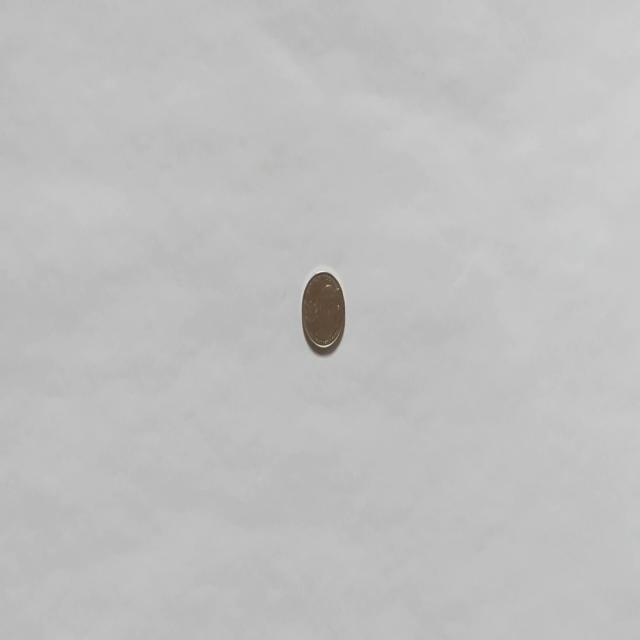seribu rupiah koin: (300, 268, 346, 354)
